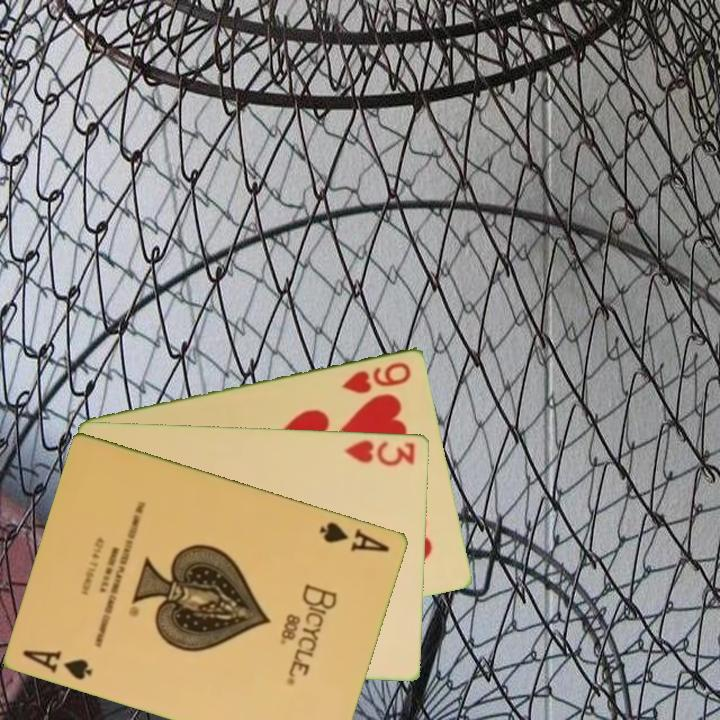3h: (341, 436, 418, 469)
9h: (338, 358, 414, 396)
As: (316, 518, 393, 555), (20, 646, 96, 683)
